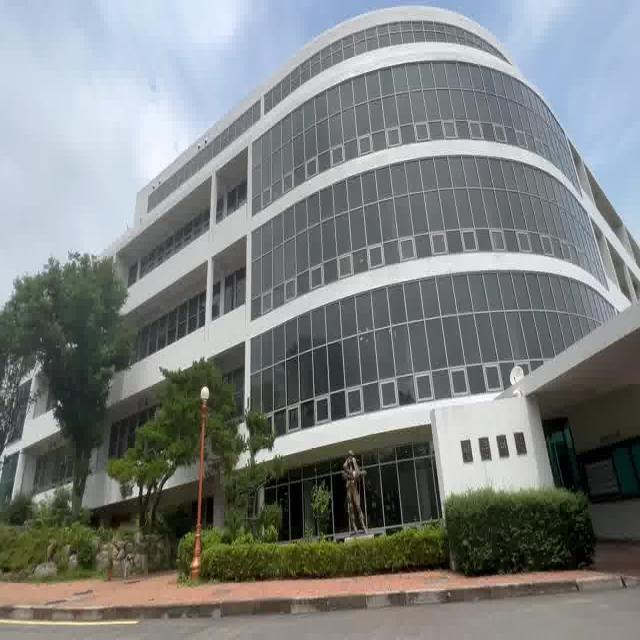building: (229, 24, 554, 461)
